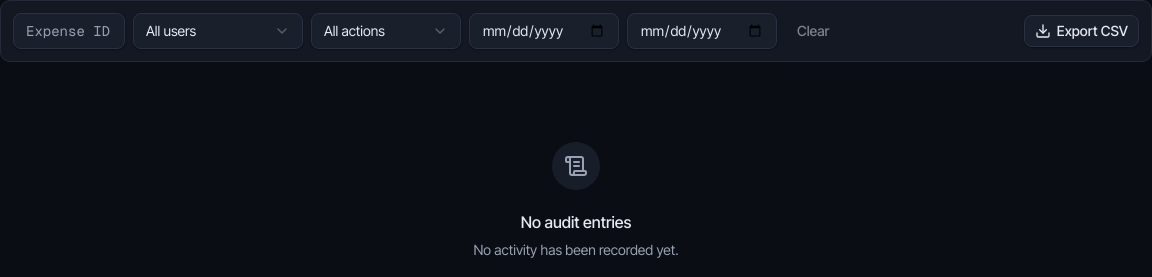
Test: AuditLog error + empty states › shows the filtered empty state once a filter is active
The image size is (1152, 277).
Expected: the text "No audit entries" is shown, 521,212 -> 631,232
# Typing an expense-id makes hasFilters true → the copy switches.
Type "7" into the field named "Filter by expense ID" at (69,31), box 13,13 -> 125,49
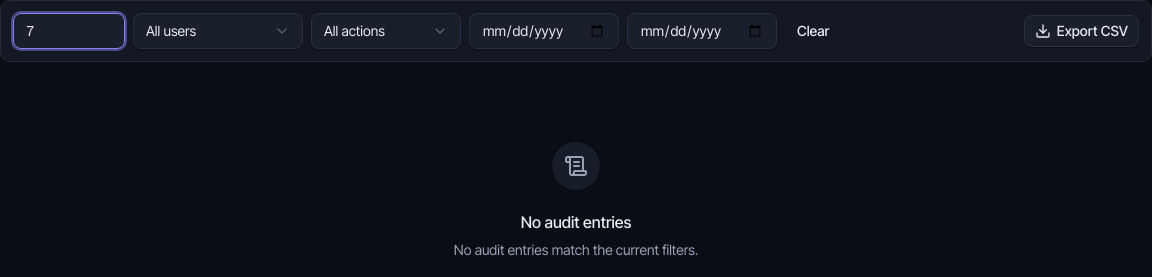
Result: the text "No audit entries match the current filters." is shown at 454,240 -> 698,260
